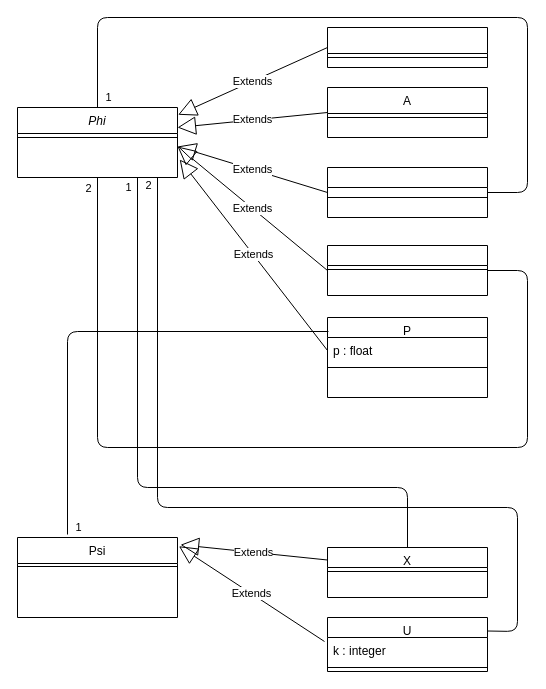
Image size: 546x689. Some labels were removed from this diagram. Each missing label, with the centre of its shape:
"And" goes at point (407, 270).
"Not" goes at point (407, 192).
"True" goes at point (407, 47).
